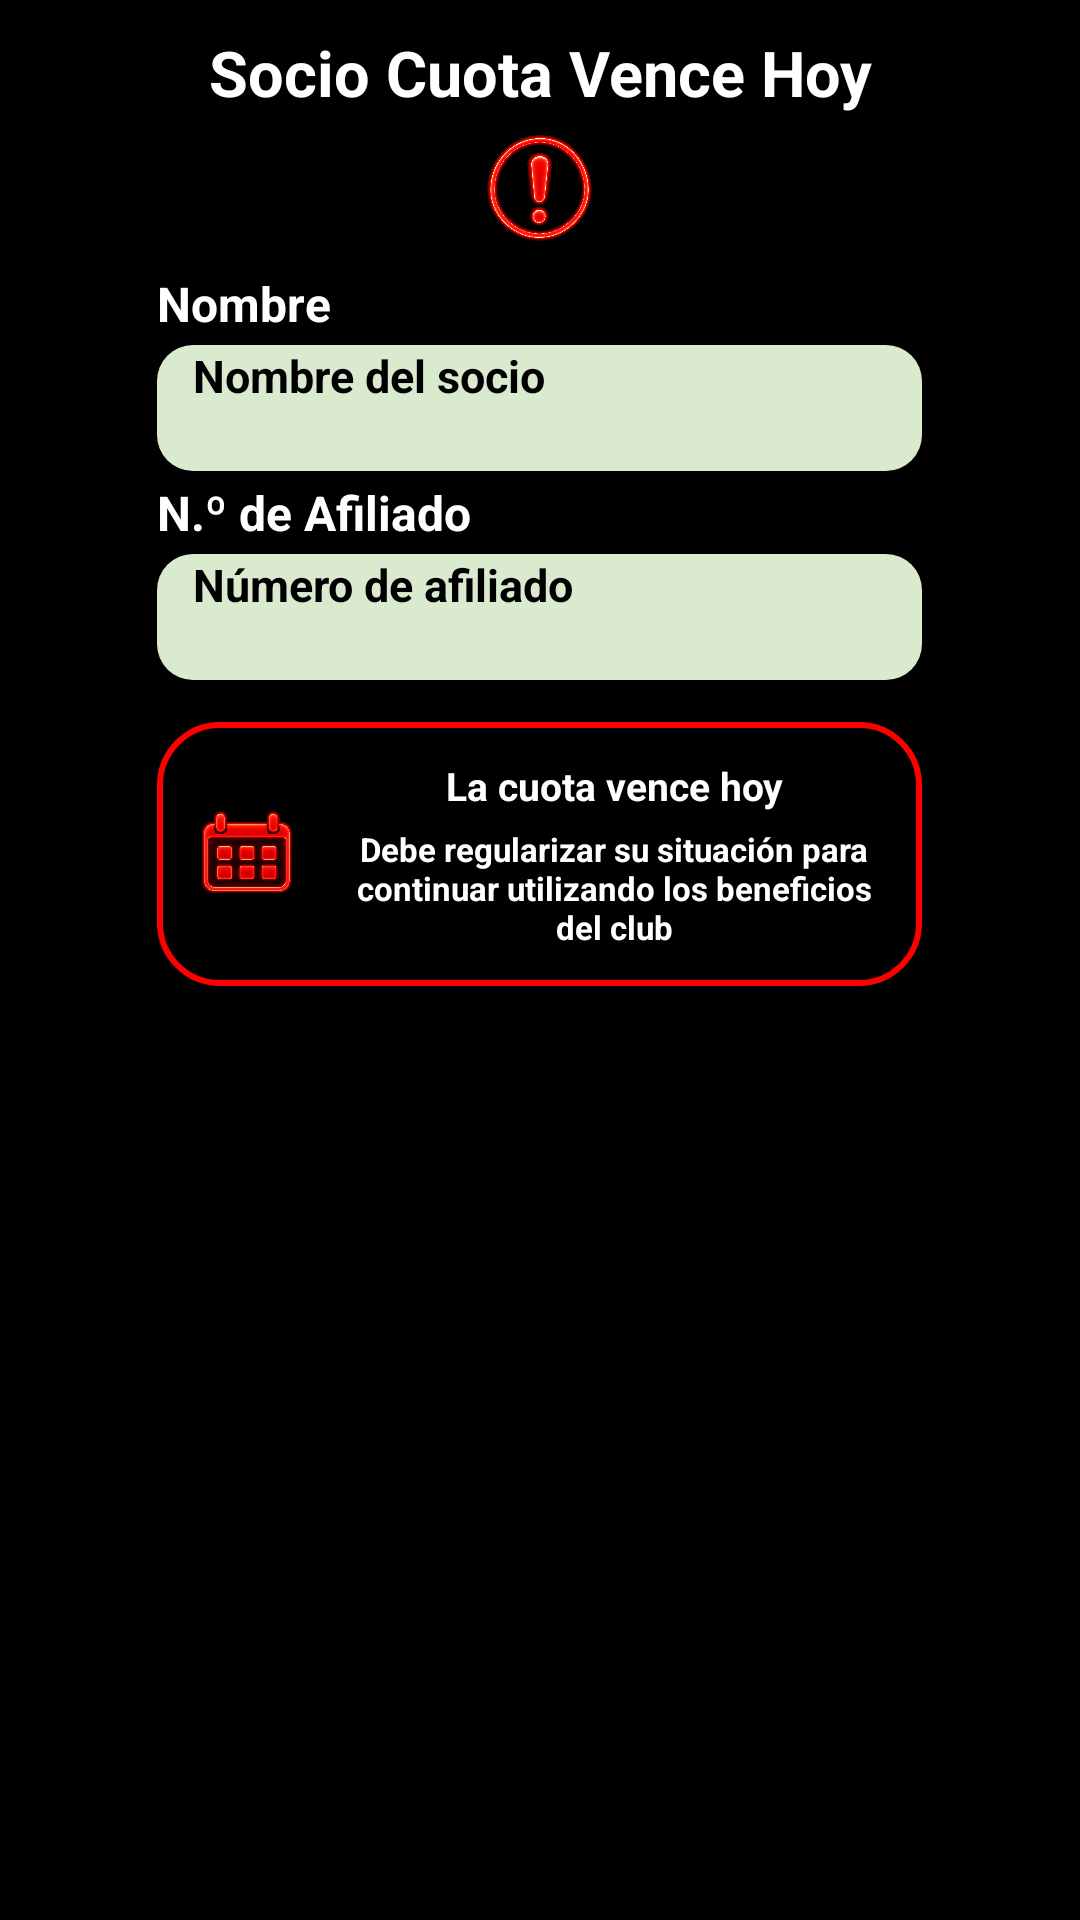

Screen size 1080px x 1920px. Icon name, then its center in pixels as (x,y):
Alerta: (539,188)
Calendario: (247,852)
